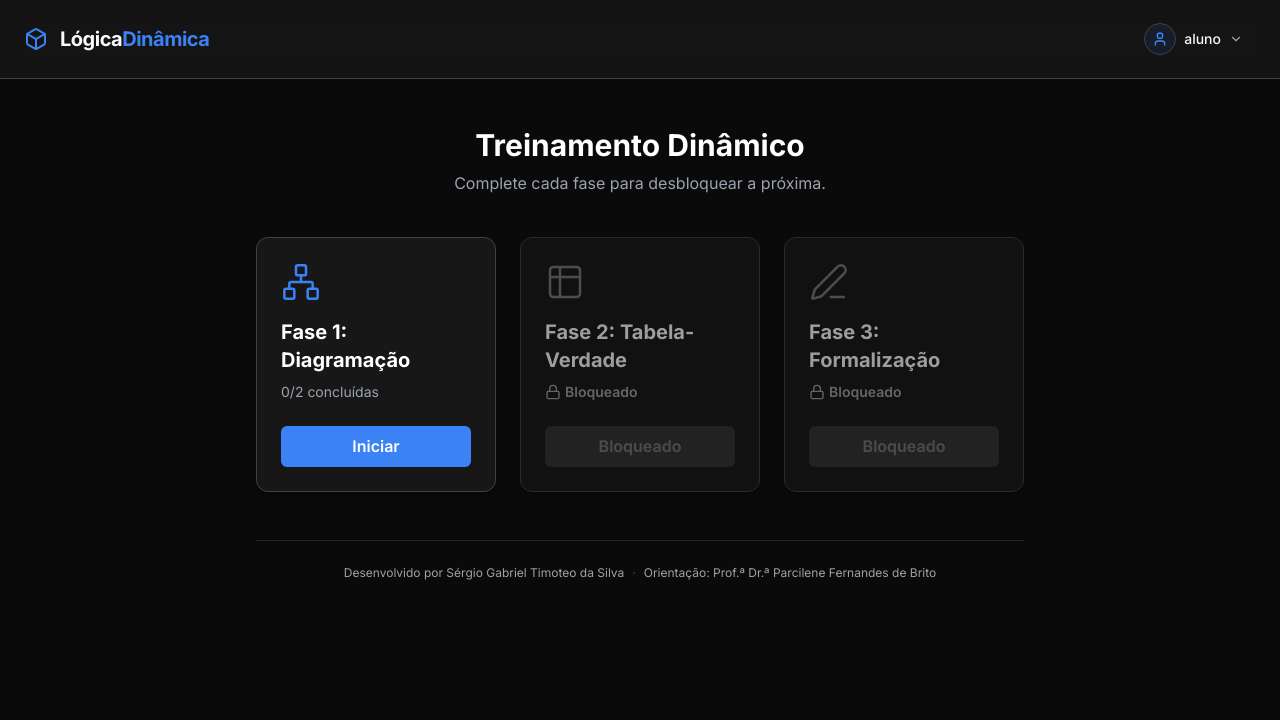
it: Modal de saída durante a fase › volta para a fase ao clicar em "Continuar jogando"
This screenshot has width=1280, height=720.
Click the button "Iniciar": (376, 446) [281,426,471,467]
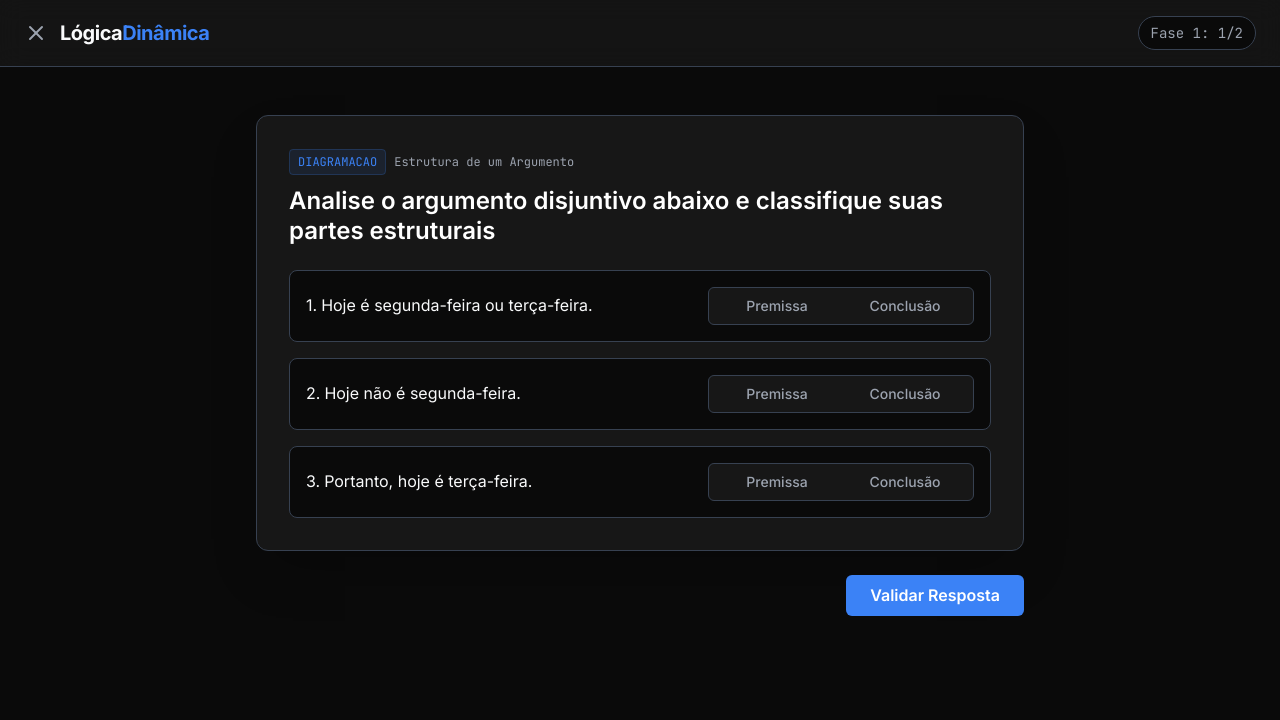
Click the button named "Fechar": (36, 33) [24,21,48,45]
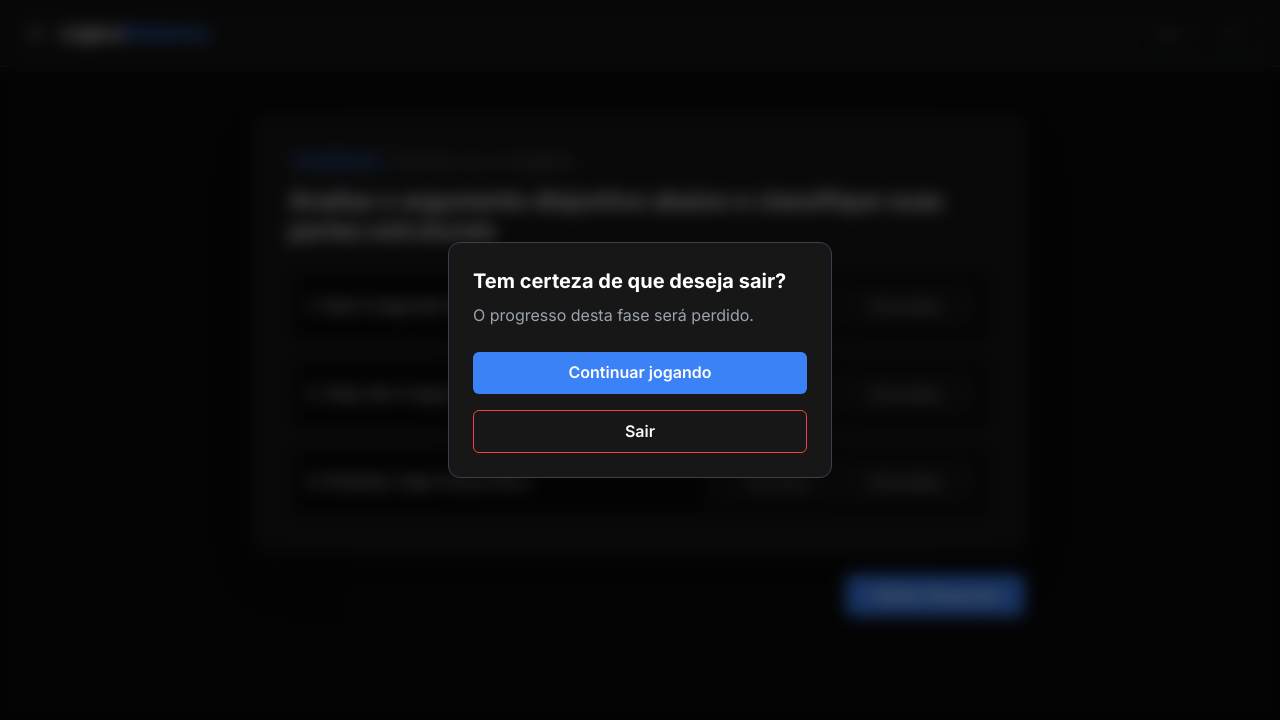
Click the button "Continuar jogando": (640, 373) [473,352,807,394]
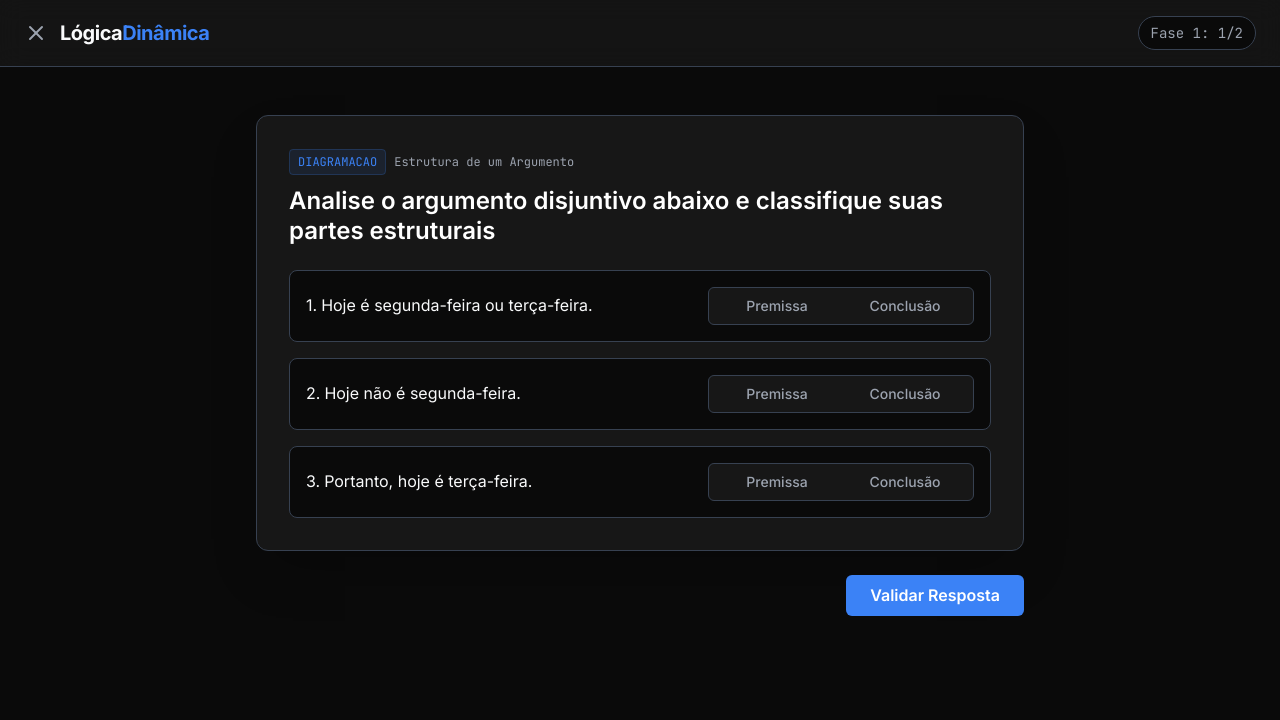
Now the text "Fase 1: 1/2" is shown, box [1138,16,1256,50]
Now the heading "Tem certeza de que deseja sair" is gone
